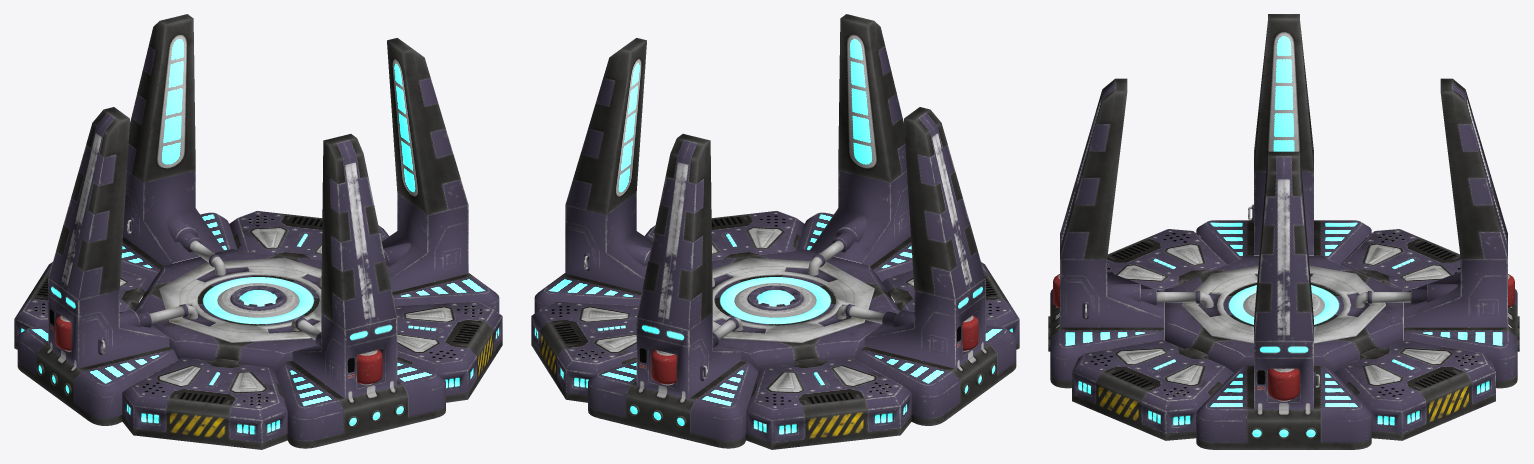
The picture shows the model from 3 angles, left to right: view 1: azimuth 30°, elevation 25°; view 2: azimuth 150°, elevation 25°; view 3: azimuth 270°, elevation 25°; orthographic projection.
Parts seen in each view (by area): view 1: Teleport; view 2: Teleport; view 3: Teleport.
Part boxes in pixels (x1,y1,x2,y2): Teleport: (14,14,502,449); Teleport: (531,14,1019,449); Teleport: (1048,14,1519,449).
Bounding box in the file's own units: 403 × 250 × 403.
1 material, 1 textured.
